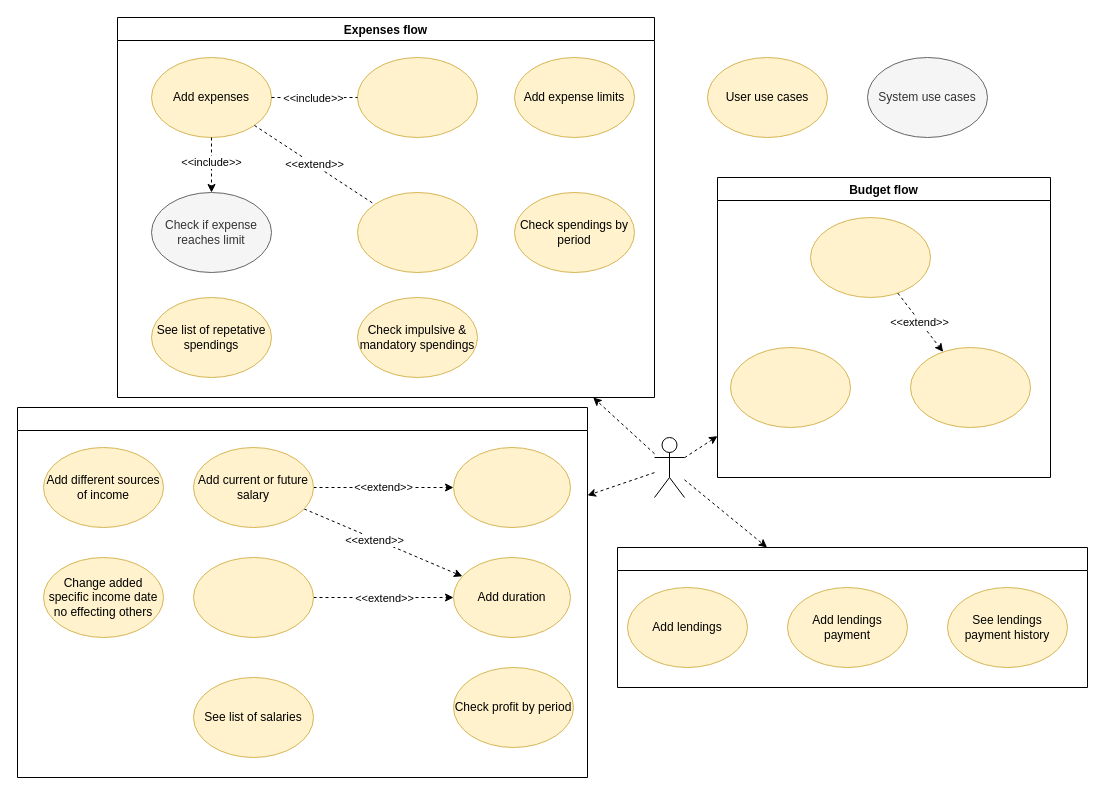
Some shapes in this 1105 by 795 pixel diagram are drawn without their labels. The box of each missing label's shape, as (x1, y1, x2, y2) in pixels:
Add current or future passive income: (192, 556, 314, 638)
Add expenses category: (356, 56, 478, 138)
Add planned expenses: (356, 192, 478, 272)
Add savings from income: (730, 346, 850, 428)
Income flow: (16, 406, 588, 778)
Lendings flow: (616, 546, 1088, 688)
See budget by selecteddate: (910, 346, 1030, 428)
See current budget: (810, 216, 930, 298)
Specify hours worked: (452, 446, 570, 528)
User: (654, 436, 684, 498)
